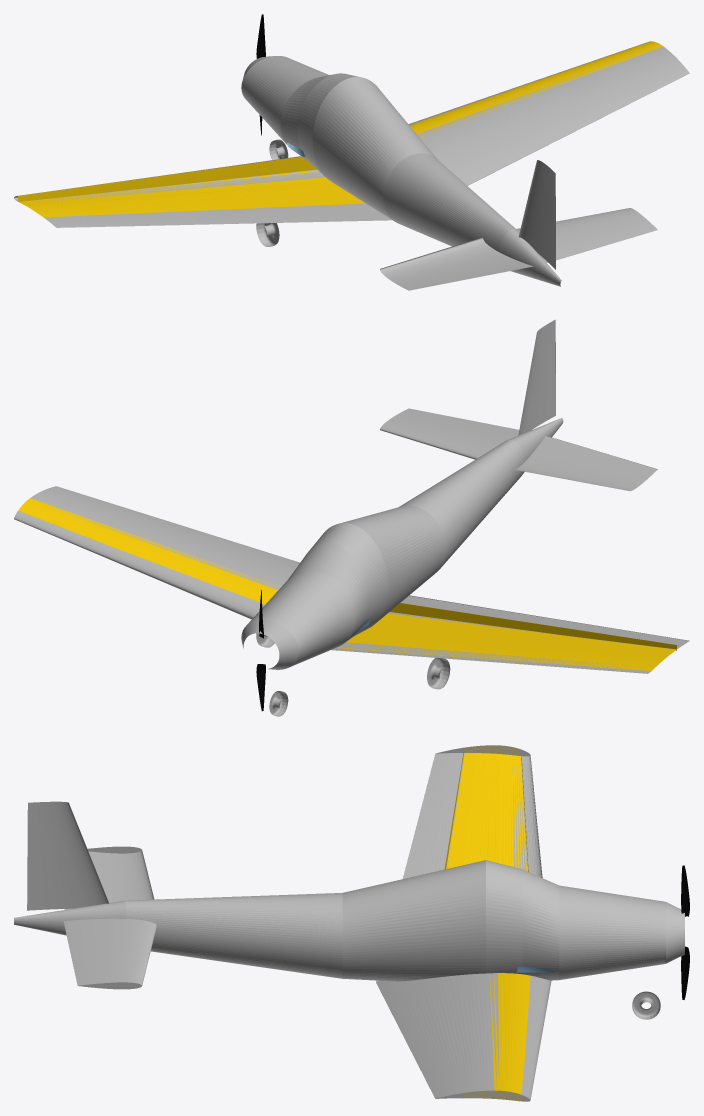
File: Navion.gltf
3 renders of one model, top to bottom at view 1: azimuth 30°, elevation 25°; view 2: azimuth 150°, elevation 25°; view 3: azimuth 270°, elevation 25°, orthographic. The views are drawn at different scales.
Visible parts, largest first — view 1: Renderer Node; view 2: Renderer Node; view 3: Renderer Node.
Boxes of the visible parts, x1,y1,x2,y2 form: Renderer Node: (14,14,689,290); Renderer Node: (14,319,689,716); Renderer Node: (14,745,689,1101).
Bounding box in the file's own units: 10.17 × 3.06 × 8.41.
